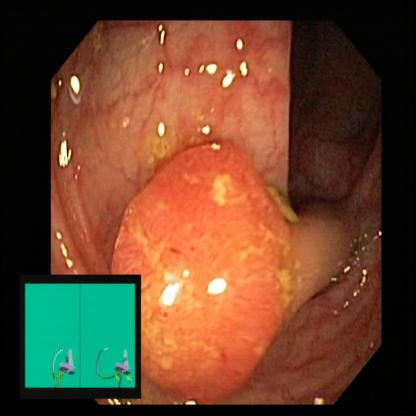Polyps: (134, 185, 289, 383)
